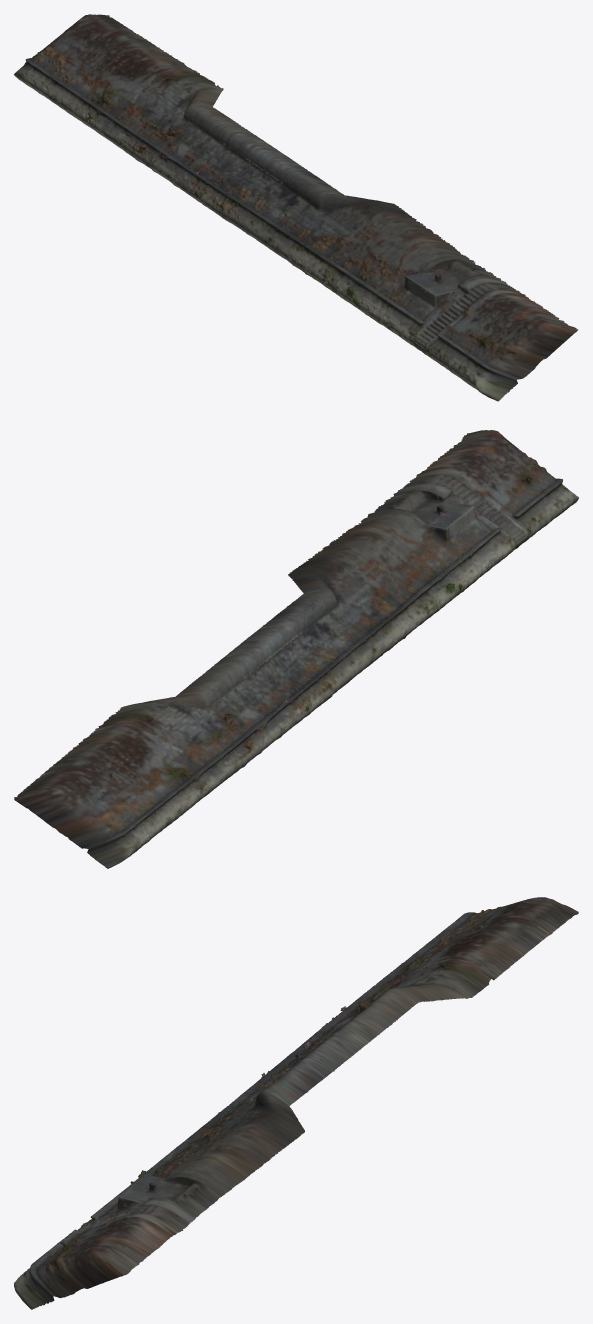
The model's file is run4_p3_c7.glb.
3 renders of one model, top to bottom at view 1: azimuth 30°, elevation 25°; view 2: azimuth 150°, elevation 25°; view 3: azimuth 330°, elevation 25°, orthographic. The views are drawn at different scales.
Parts seen in each view (by area): view 1: run4_p3_straight_c7; view 2: run4_p3_straight_c7; view 3: run4_p3_straight_c7.
Part boxes in pixels (box(x1,y1,x2,y2)): run4_p3_straight_c7: box(14, 14, 578, 401); run4_p3_straight_c7: box(14, 430, 578, 868); run4_p3_straight_c7: box(14, 897, 578, 1309).
Size of the model in its own units: 8.54 by 3.91 by 50.18.
1 material, 1 textured.
